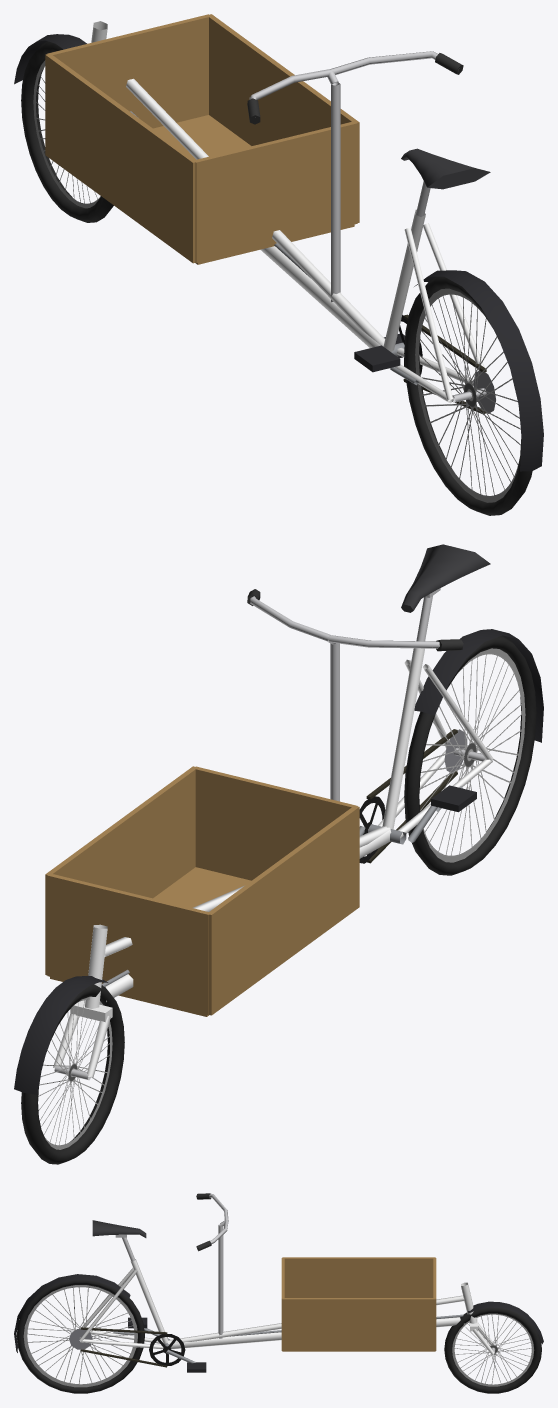
The model's file is cargo.glb.
3 views of the same model, one above another, from view 1: azimuth 30°, elevation 25°; view 2: azimuth 150°, elevation 25°; view 3: azimuth 270°, elevation 25° (orthographic). The views are drawn at different scales.
Visible parts, largest first — view 1: bike; view 2: bike; view 3: bike.
Part boxes in pixels (box(x1,y1,x2,y2)): bike: box(14, 14, 543, 515); bike: box(14, 544, 543, 1164); bike: box(14, 1193, 543, 1393).
Size of the model in its own units: 0.6675 by 1.02 by 2.76.
Materials: 1 (1 with a texture image).
